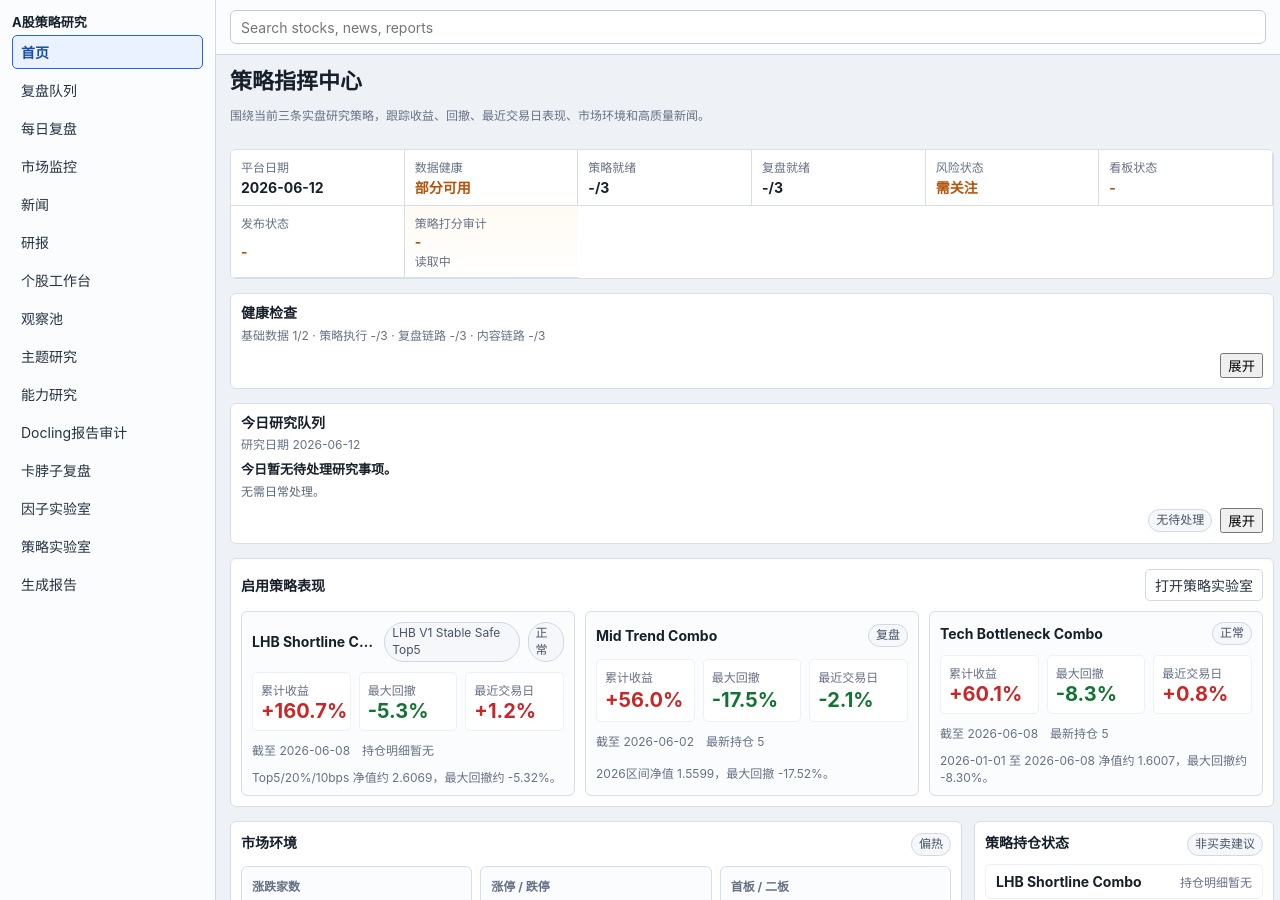
AppShell and HomeCockpit › renders a strategy-centered command center
Expected: the heading "策略指挥中心" is shown, [230,68,362,94]
Expected: the heading "启用策略表现" is shown, [241,575,325,595]
Click the 1st button "展开": (1242, 365) [1220,353,1263,378]
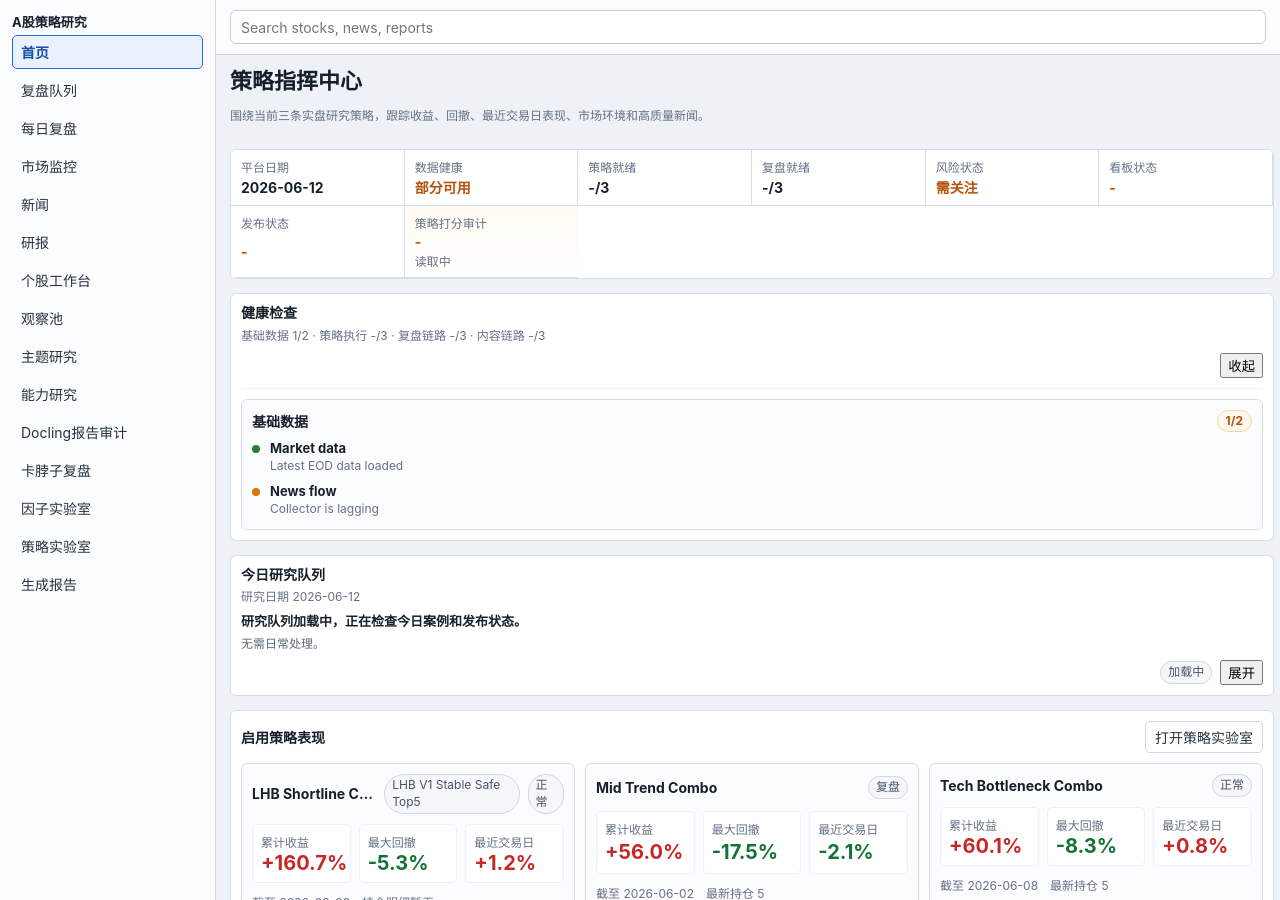
Now the button "收起" is expanded
Now the text "Market data" is shown, box [270,440,346,456]
Click the button "收起": (1242, 365) [1220,353,1263,378]
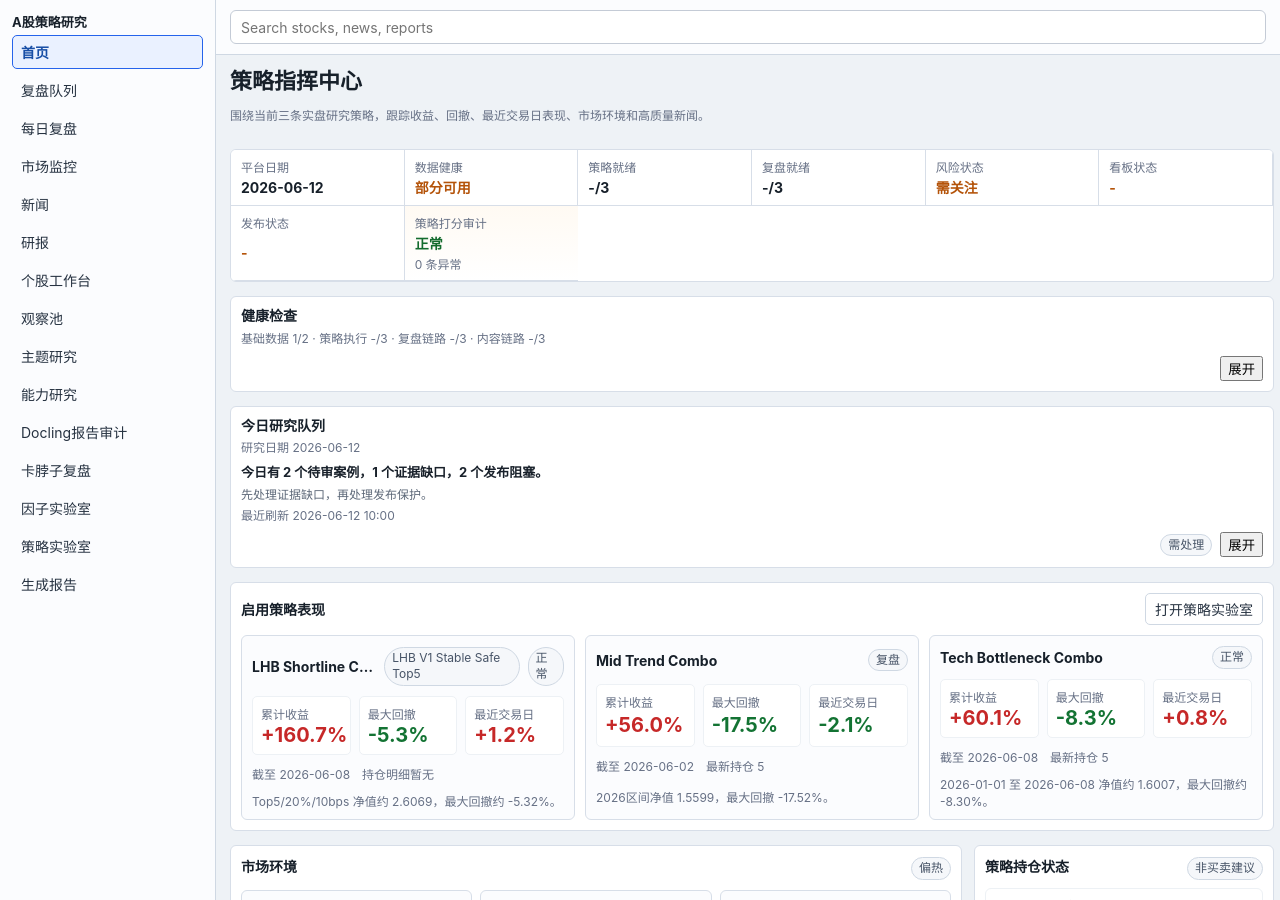
Now the 1st button "展开" is collapsed, box [1220,356,1263,381]
Now the text "今日有 2 个待审案例，1 个证据缺口，2 个发布阻塞。" is shown, box [241,464,548,480]
Now the text "先处理证据缺口，再处理发布保护。" is shown, box [241,487,433,502]
Click the button "展开" next to "需处理": (1242, 545) [1220,532,1263,558]
(page scrolled)
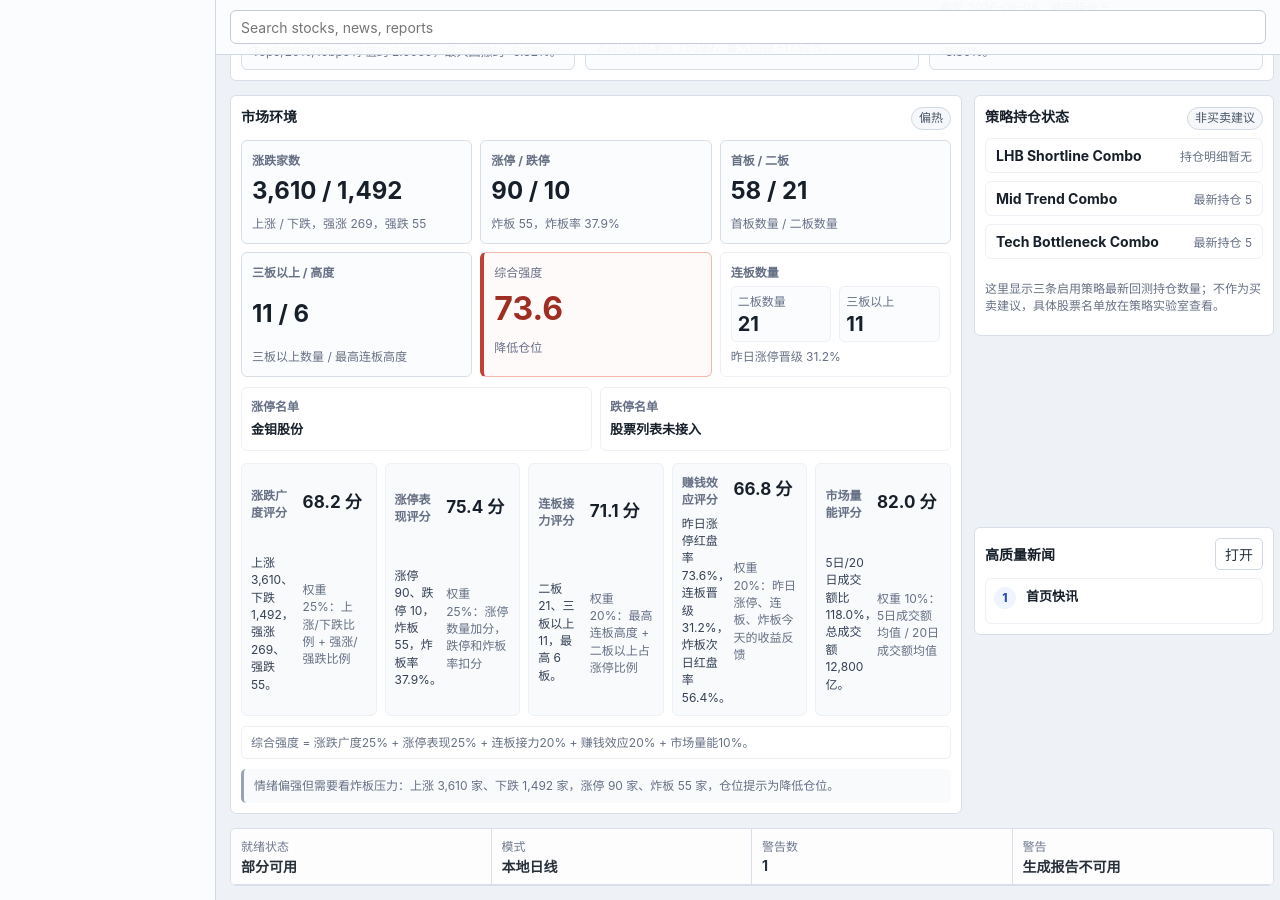
Expected: the text "73.6" is shown, [494,289,563,328]
Now the text "股票列表未接入" is shown once, box [610,421,701,437]
Now the text "最新持仓 5" is shown 2 times, box [1194,190,1252,207]; [1194,233,1252,250]
